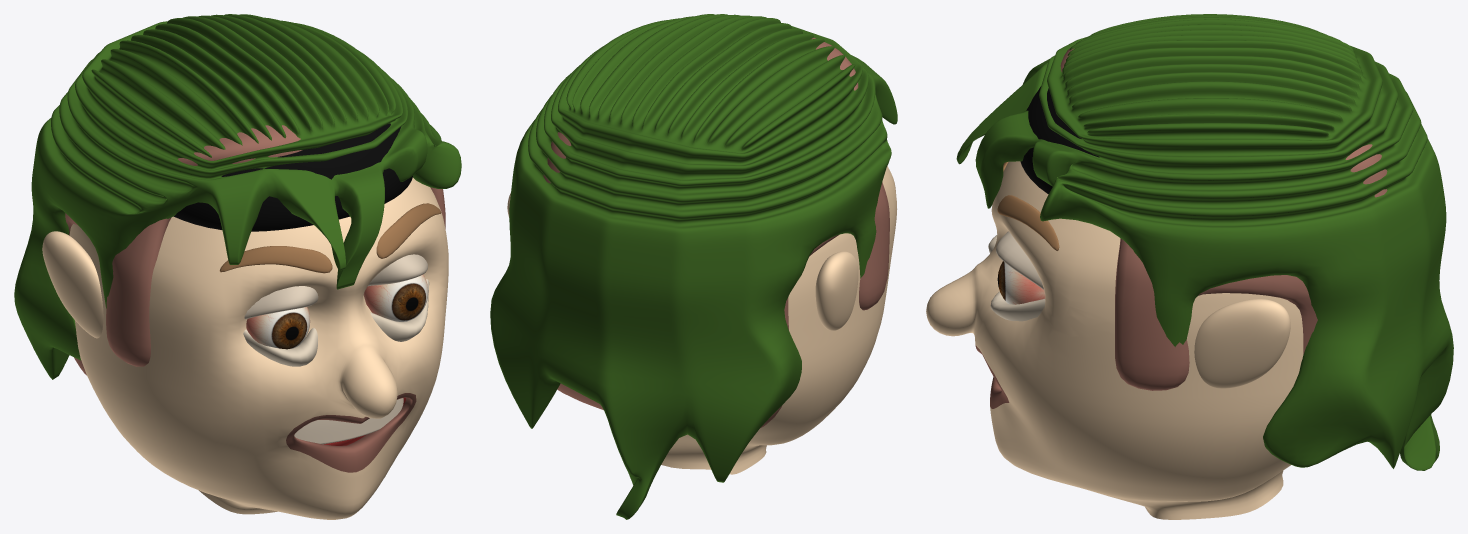
The model's file is Character_Head.fbx.
3 renders of one model, left to right at view 1: azimuth 30°, elevation 25°; view 2: azimuth 150°, elevation 25°; view 3: azimuth 270°, elevation 25°, orthographic. The views are drawn at different scales.
Visible parts, largest first — view 1: Head, Female_Hair, Hair, Male_Hair2, Sphere, EyebrowLeft; view 2: Female_Hair, Head, Hair; view 3: Female_Hair, Head, Hair, Male_Hair2, EyebrowLeft, Sphere.
Boxes of the visible parts, bbox=[...] form: Head: bbox=[42, 177, 448, 519]; Female_Hair: bbox=[14, 14, 461, 379]; Hair: bbox=[65, 125, 445, 375]; Male_Hair2: bbox=[174, 123, 412, 231]; Sphere: bbox=[246, 274, 428, 349]; EyebrowLeft: bbox=[219, 203, 441, 273]; Female_Hair: bbox=[490, 14, 897, 519]; Head: bbox=[507, 166, 897, 474]; Hair: bbox=[543, 37, 889, 428]; Female_Hair: bbox=[956, 14, 1453, 470]; Head: bbox=[926, 161, 1303, 519]; Hair: bbox=[1060, 48, 1387, 390]; Male_Hair2: bbox=[1020, 86, 1099, 193]; EyebrowLeft: bbox=[997, 162, 1059, 250]; Sphere: bbox=[997, 261, 1045, 304].
Size of the model in its own units: 168 by 204 by 214.
Materials: 10 (1 with a texture image).
